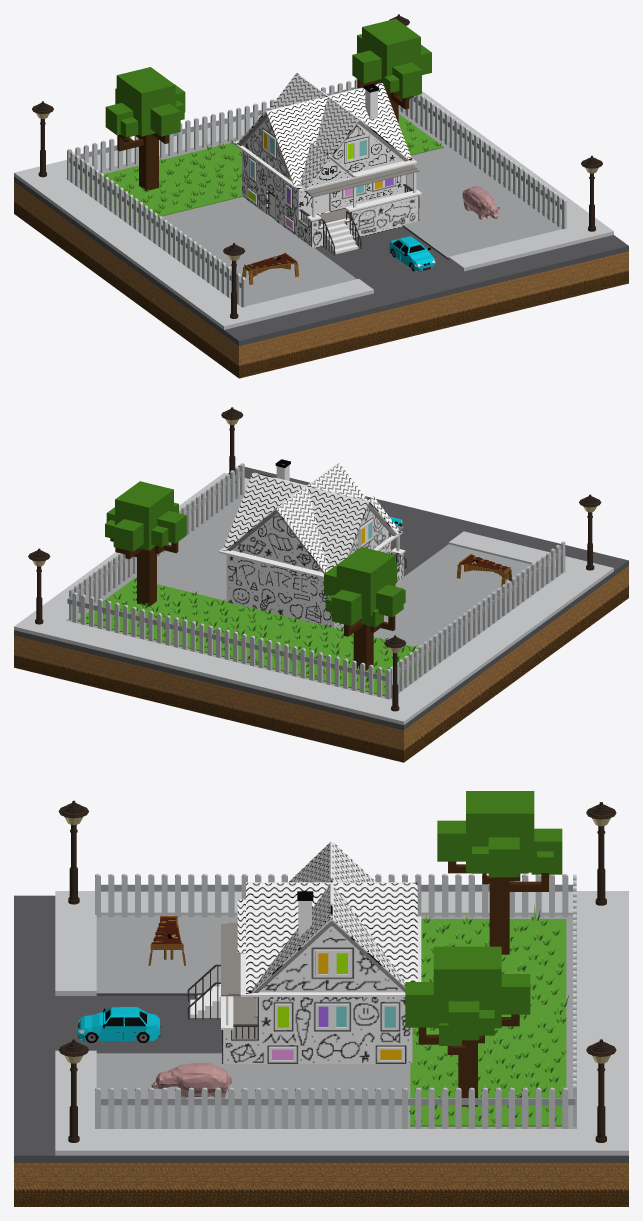
The picture shows the model from 3 angles, top to bottom: view 1: azimuth 30°, elevation 25°; view 2: azimuth 150°, elevation 25°; view 3: azimuth 270°, elevation 25°; orthographic projection. The views are drawn at different scales.
Parts seen in each view (by area): view 1: Cube.004, Cube.879, VEHICLES_CAR, ANIMAL_HIPOPOTAMO, OBJRANDOM_MARIMBA; view 2: Cube.004, Cube.879, OBJRANDOM_MARIMBA; view 3: Cube.004, Cube.879, VEHICLES_CAR, ANIMAL_HIPOPOTAMO, OBJRANDOM_MARIMBA.
Part boxes in pixels (x1,y1,x2,y2): Cube.004: [14, 14, 628, 378]; Cube.879: [233, 73, 421, 255]; VEHICLES_CAR: [389, 236, 435, 271]; ANIMAL_HIPOPOTAMO: [462, 186, 499, 219]; OBJRANDOM_MARIMBA: [242, 252, 298, 284]; Cube.004: [14, 407, 628, 762]; Cube.879: [219, 459, 406, 628]; OBJRANDOM_MARIMBA: [456, 554, 512, 586]; Cube.004: [14, 791, 628, 1206]; Cube.879: [187, 841, 421, 1063]; VEHICLES_CAR: [77, 1007, 161, 1042]; ANIMAL_HIPOPOTAMO: [151, 1063, 231, 1098]; OBJRANDOM_MARIMBA: [148, 916, 185, 965].
Bounding box in the file's own units: 4000 × 1702 × 4000.
39 materials, 10 textured.
